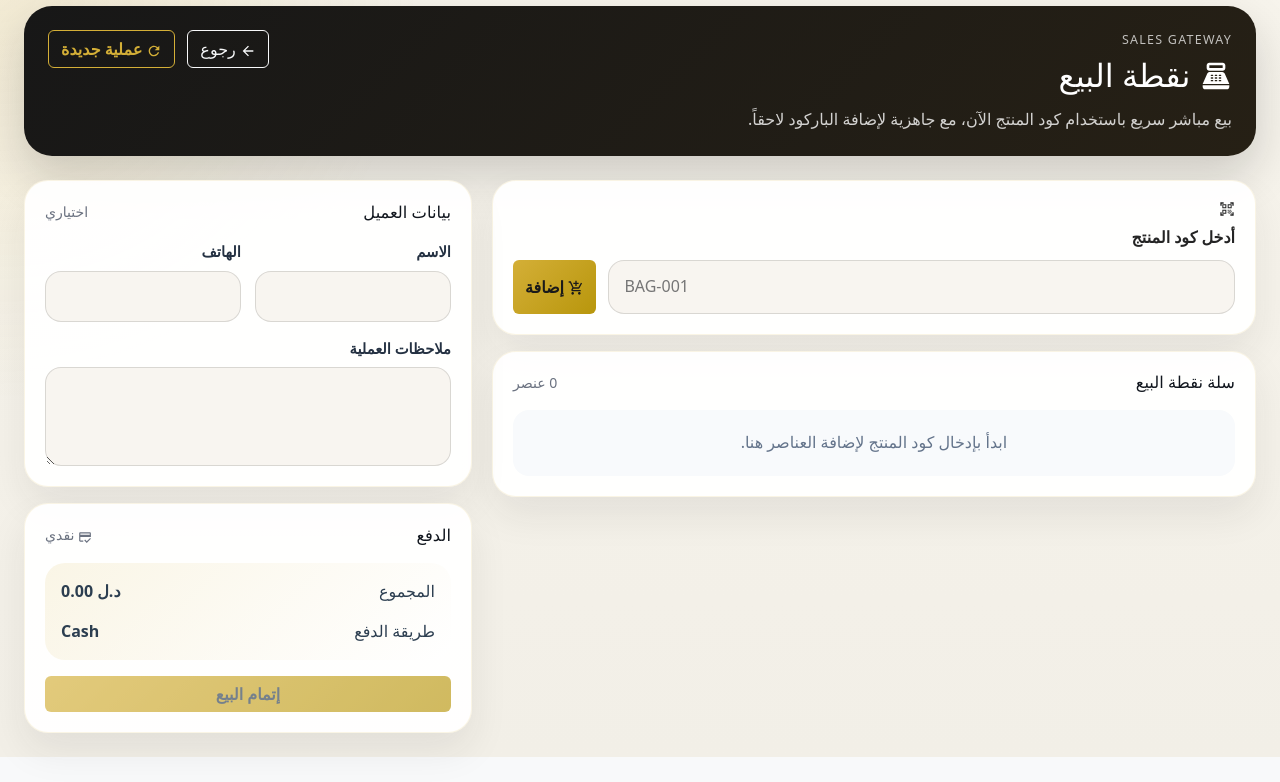
Test: PosPage › adds a product by code and completes a cash sale
Type "bag-001" into the field labelled "أدخل كود المنتج" at (922,287), box 608,260 -> 1235,314
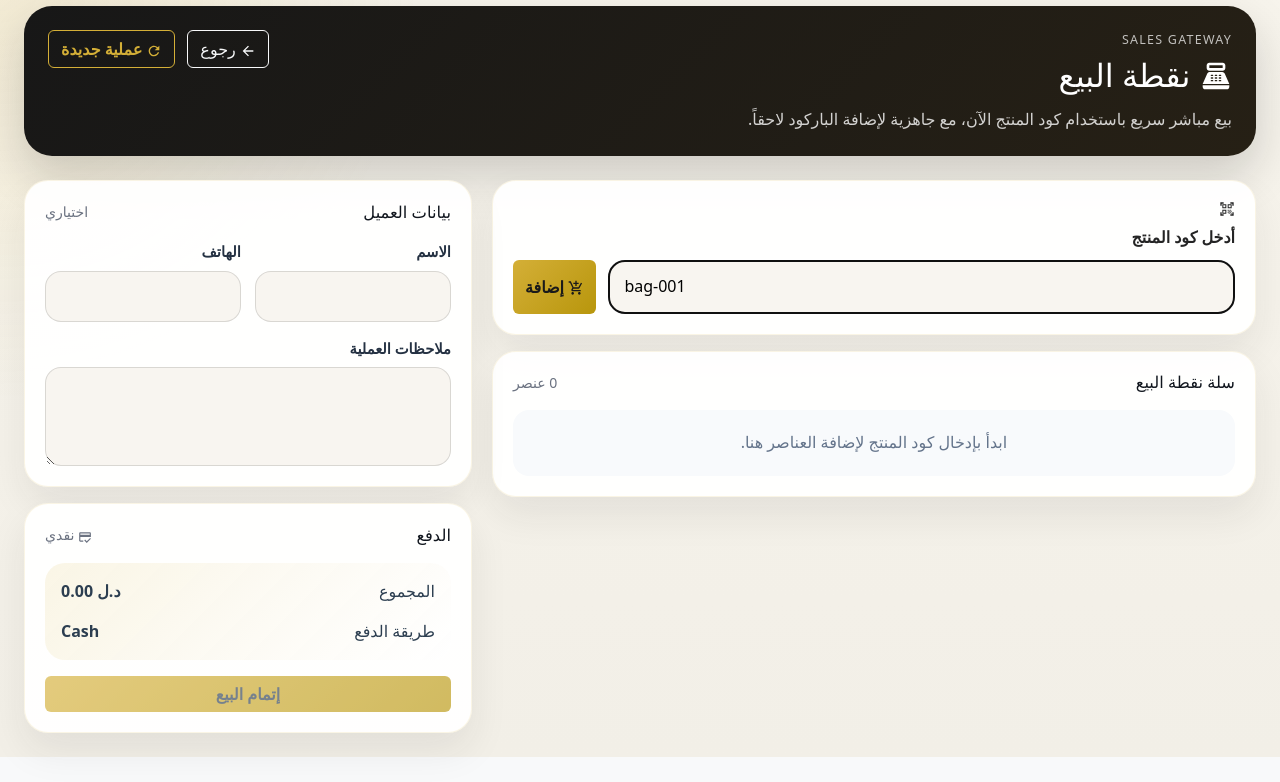
Click the button "إضافة" at (555,287), box 513,260 -> 596,314
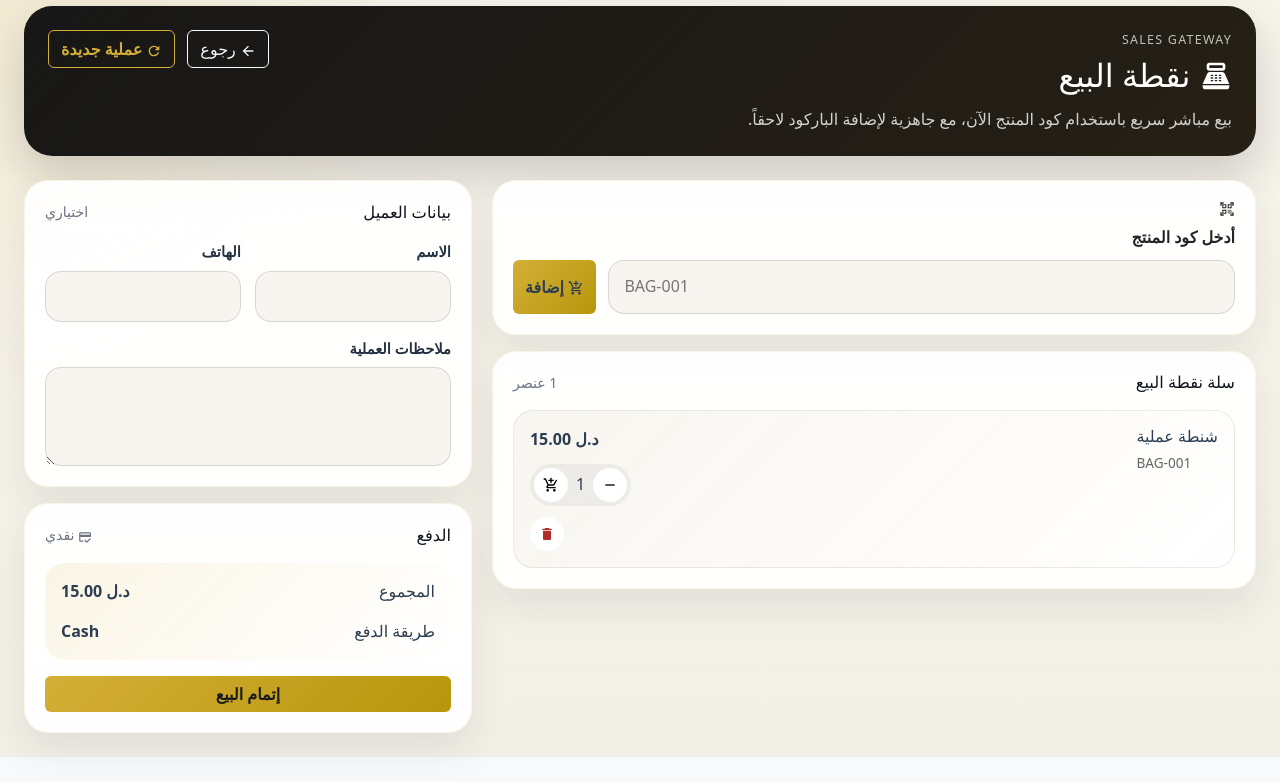
Result: the heading "شنطة عملية" is shown at 1136,427 -> 1218,446
Click the button "إتمام البيع" at (248,694), box 45,676 -> 451,712
(page scrolled)
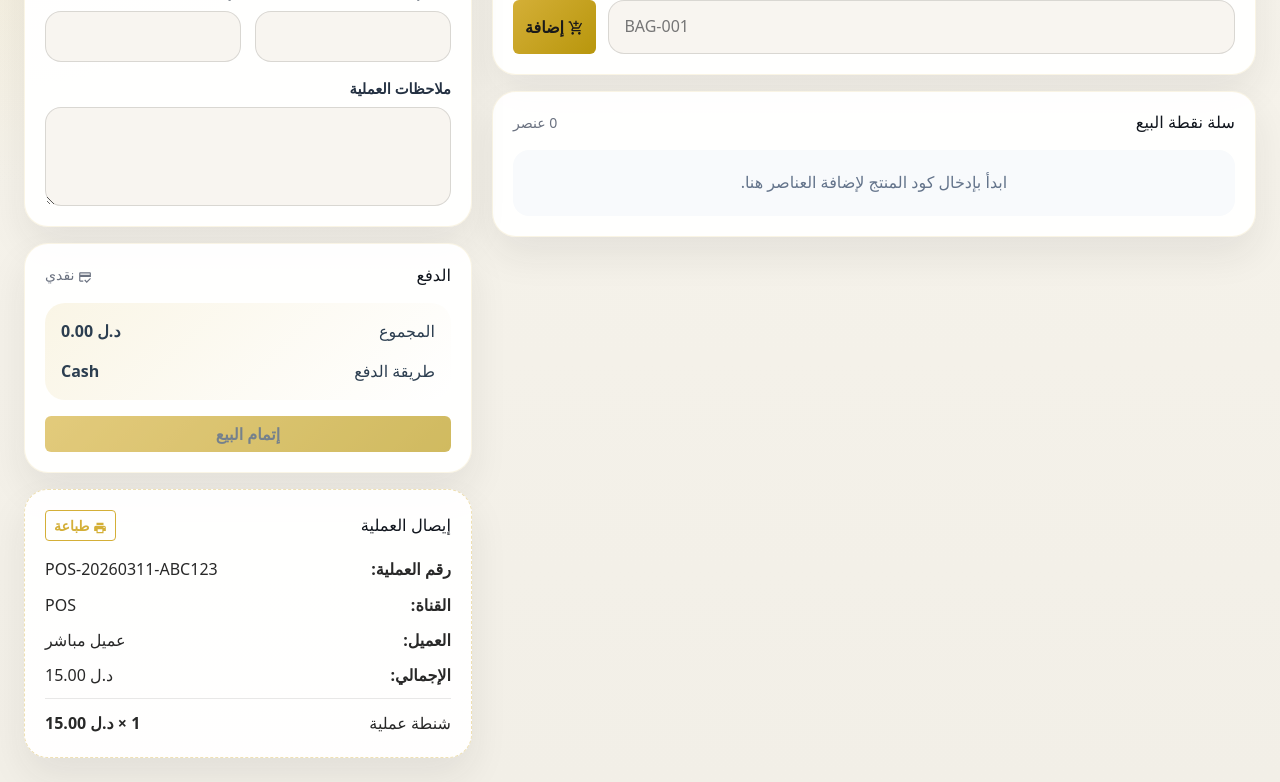
Result: the text "POS-20260311-ABC123" is shown at 45,557 -> 218,583
Result: the heading "إيصال العملية" is shown at 361,516 -> 451,536
